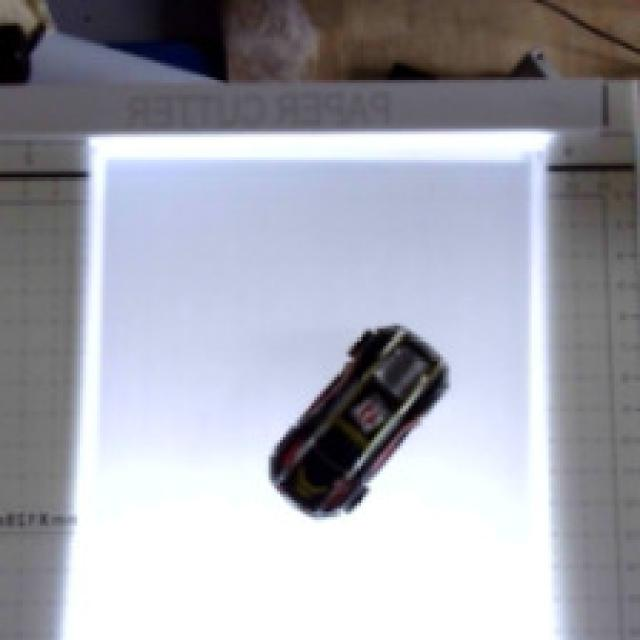Red Car: (197, 306, 540, 572)
